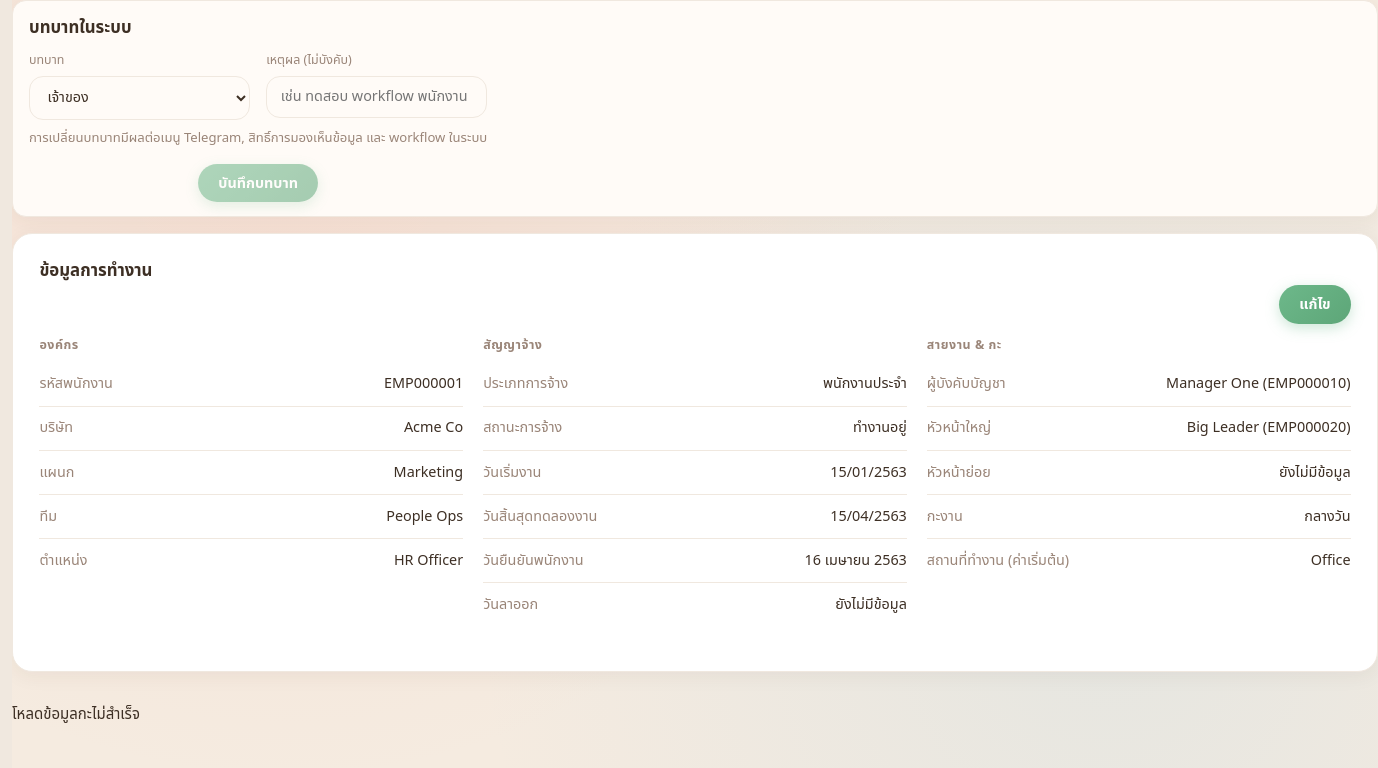
EmployeeEmploymentTab › shows API error when saving last owner demotion is blocked
Select "หัวหน้าใหญ่" in the dropdown with test id "employment-role-select": (140, 98) [29,76,250,120]
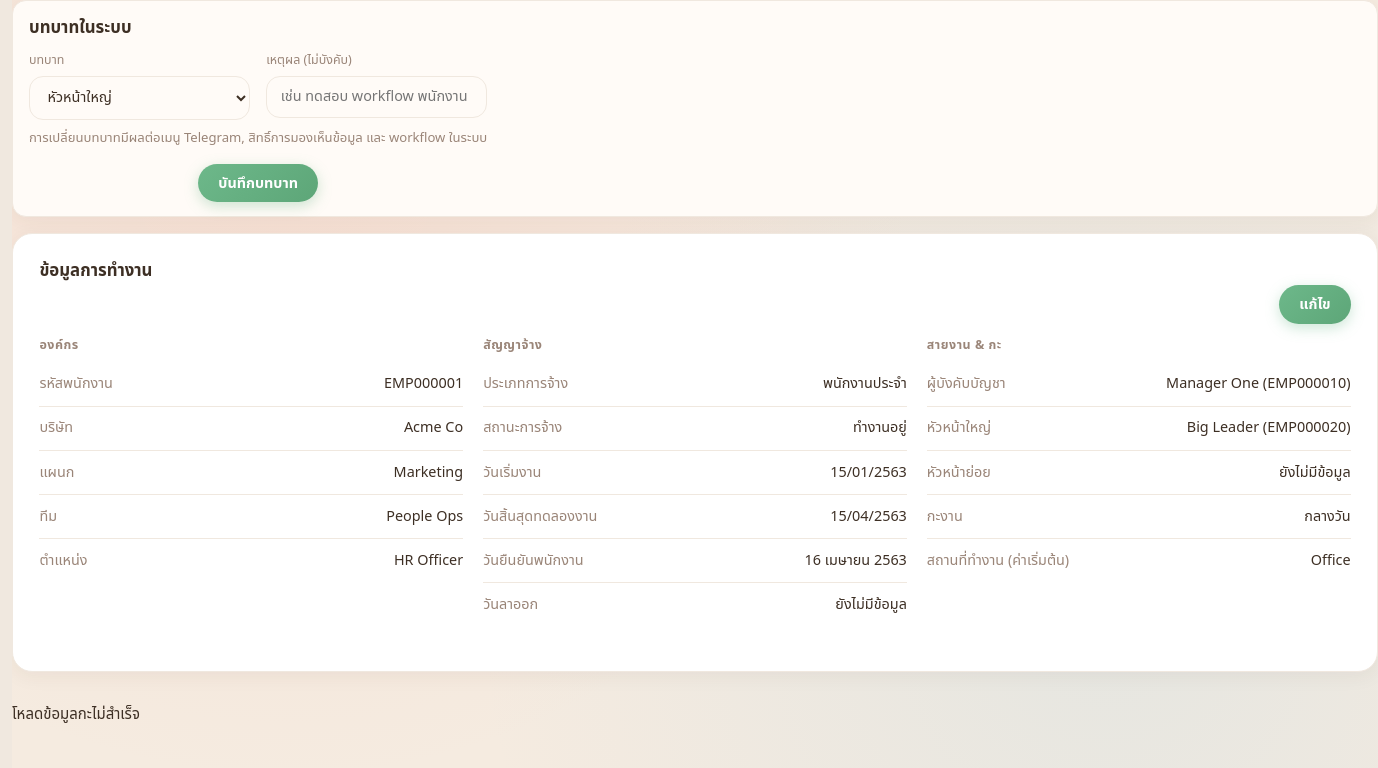
Click the button with test id "employment-role-save-button": (258, 183) [198,164,318,202]
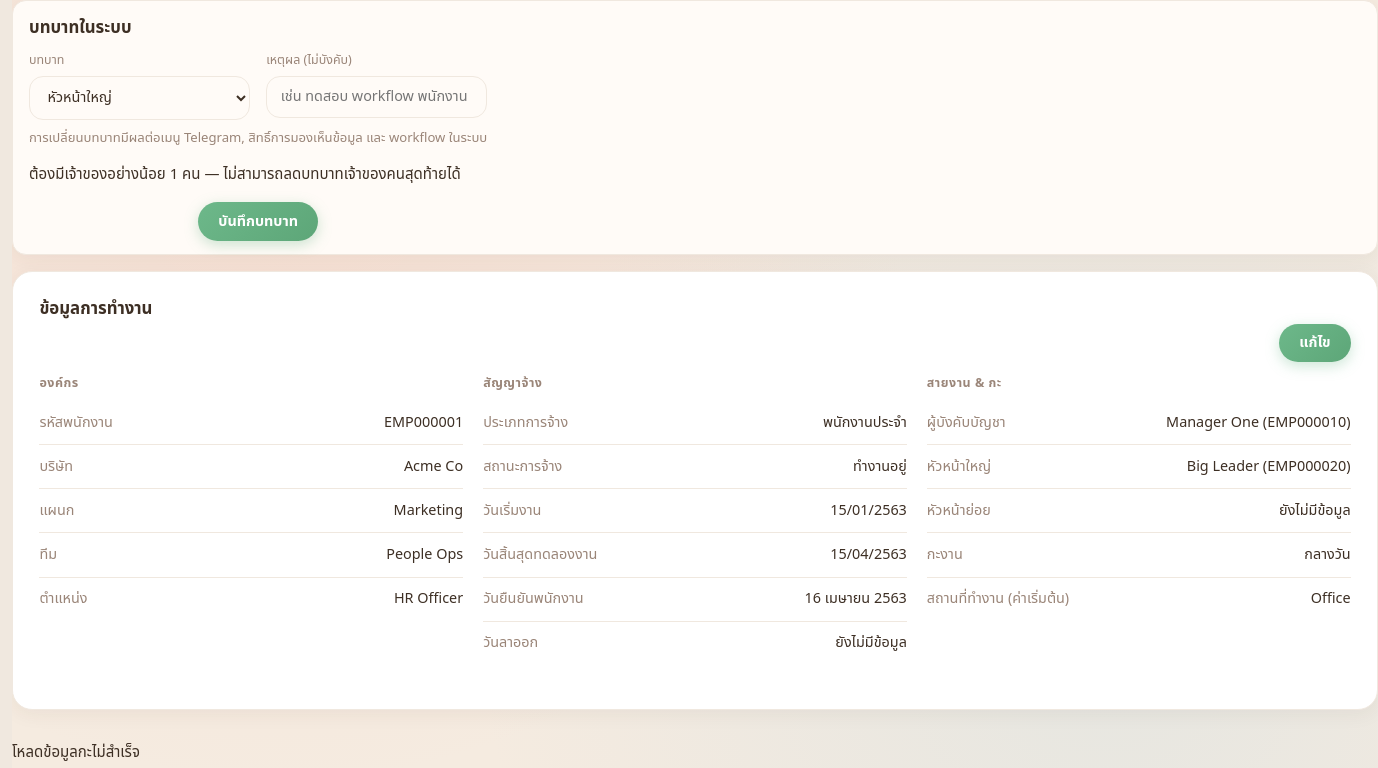
Now the text with test id "employment-role-error" reads "ต้องมีเจ้าของอย่างน้อย 1 คน — ไม่สามารถลดบทบาทเจ้าของคนสุดท้ายได้", box [29,163,461,186]
